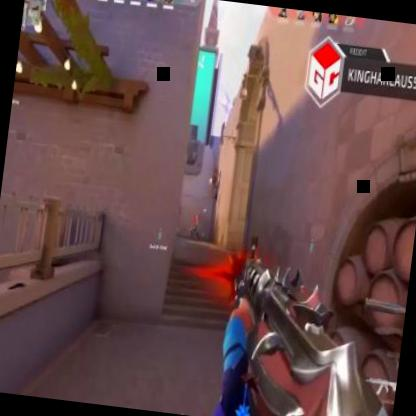enemy: (190, 214, 202, 239)
enemy_head: (195, 215, 198, 219)
